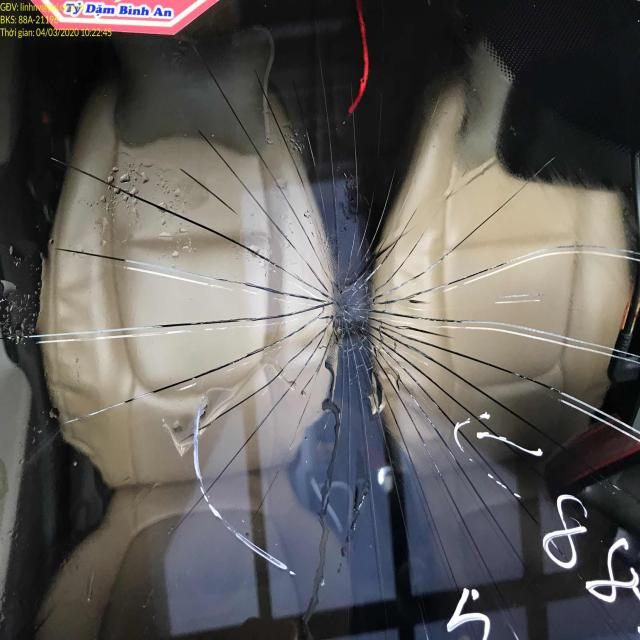Fissure: (43, 88, 633, 541)
